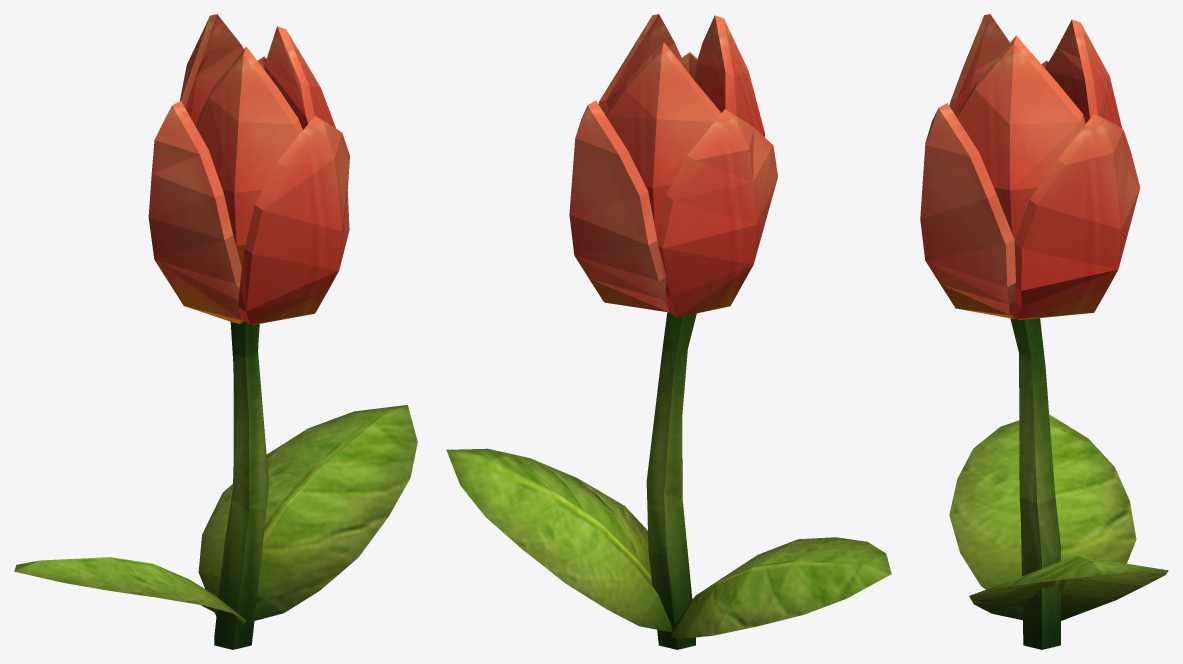
The model's file is VEG0310033.fbx.
3 views of the same model, side by side, from view 1: azimuth 30°, elevation 25°; view 2: azimuth 150°, elevation 25°; view 3: azimuth 270°, elevation 25° (orthographic).
Parts seen in each view (by area): view 1: smVEG0310033; view 2: smVEG0310033; view 3: smVEG0310033.
Boxes of the visible parts, x1=… form: smVEG0310033: x1=14, y1=14, x2=417, y2=649; smVEG0310033: x1=446, y1=14, x2=891, y2=649; smVEG0310033: x1=920, y1=14, x2=1168, y2=649.
Bounding box in the file's own units: 28.29 × 39.5 × 14.33.
Materials: 1 (1 with a texture image).
